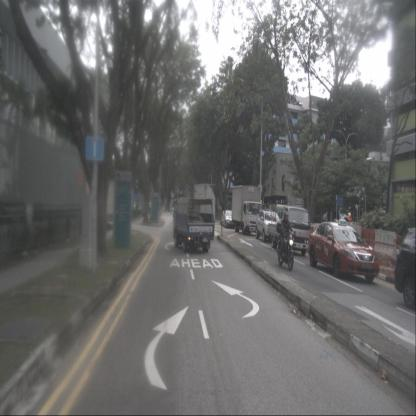human-pedestrian-adult: (346, 212, 353, 238)
movable_object-barrier: (374, 229, 396, 258), (358, 228, 375, 260), (344, 224, 362, 252), (396, 232, 409, 262)
vehicle-car: (307, 218, 380, 284), (394, 227, 415, 310), (254, 210, 282, 243), (222, 209, 236, 230)
vehicle-motorcycle: (276, 211, 296, 272)
vehicle-truck: (173, 197, 215, 253), (268, 204, 310, 256), (231, 185, 262, 235)
